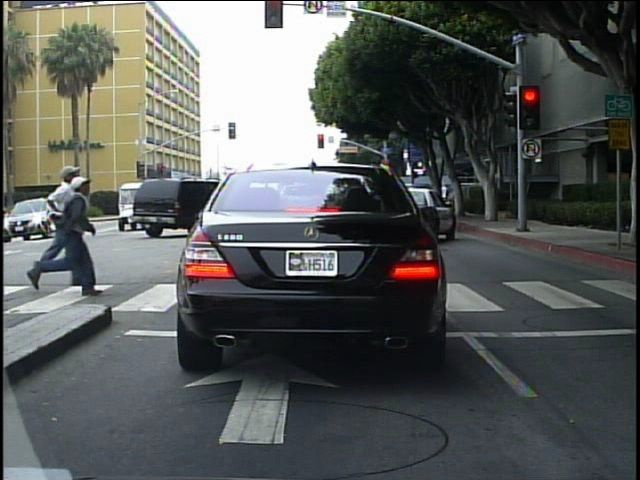person: (35, 170, 98, 295), (438, 179, 453, 215)
